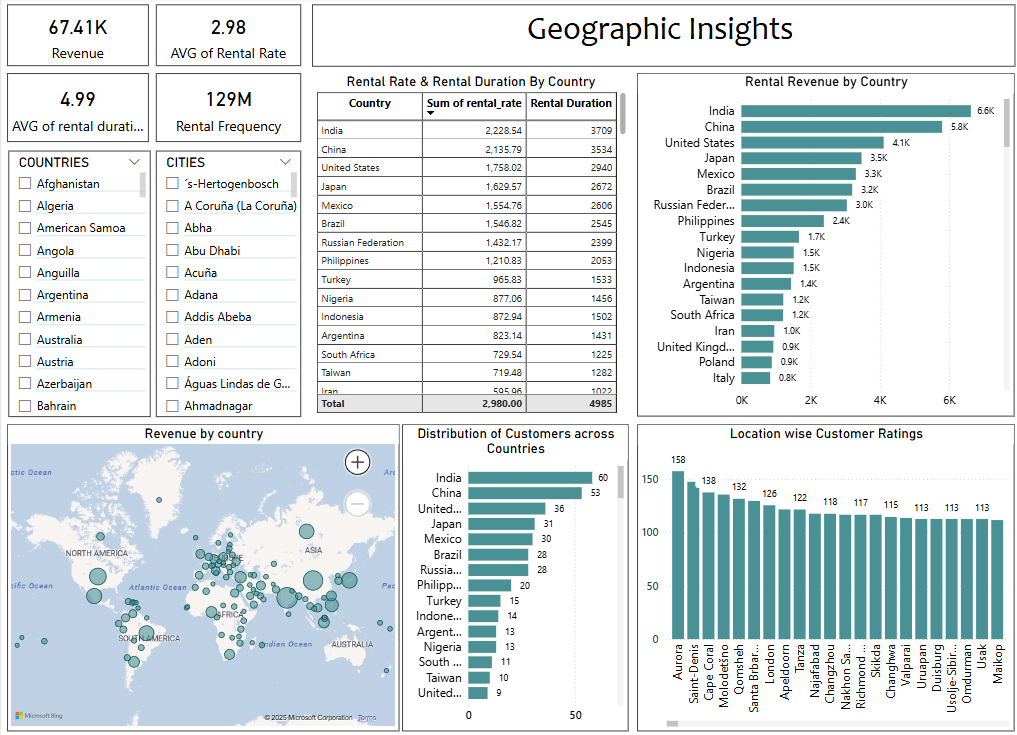

This screenshot's page, from the dashboard's own definition file:
{"tool":"powerbi","page":{"name":"Geographic / Location Analysis","canvas":[1370,1000],"ordinal":0},"visuals":[{"type":"map","fields":{"Category":["country.country"],"Size":["payment.Revenue"]},"box":[7.7,573.4,525.5,411.1],"z":0},{"type":"textbox","box":[416.4,9.4,942.4,83],"z":1000},{"type":"columnChart","title":"Location wise Customer Ratings","fields":{"Category":["city.city"],"Y":["Sum(film.rental_rate)"]},"box":[853.2,573.4,505.4,411.1],"z":2000},{"type":"clusteredBarChart","title":" Distribution of Customers across Countries","fields":{"Category":["country.country"],"Y":["CountNonNull(customer.customer_id)"]},"box":[537.9,573.4,302.9,411.1],"z":3000},{"type":"card","fields":{"Values":["payment.Revenue"]},"box":[8.7,10,189.7,82.4],"z":4000},{"type":"card","fields":{"Values":["Avg(film.rental_rate)"]},"box":[207.2,10,194.7,82.4],"z":5000},{"type":"card","fields":{"Values":["Avg(film.rental_duration)"]},"box":[8.7,102.3,189.7,92.3],"z":7000},{"type":"slicer","fields":{"Values":["city.city"]},"box":[207.1,205.6,194.7,357],"z":8000},{"type":"slicer","fields":{"Values":["country.country"]},"box":[9.3,205.6,190.1,357],"z":9000},{"type":"card","title":"Rental Frequency","fields":{"Values":["Sum(payment.payment_id)"]},"box":[207.2,102.3,194.7,92.3],"z":10000},{"type":"tableEx","title":"Rental Rate & Rental Duration By Country","fields":{"Values":["country.country","Sum(film.rental_rate)","Sum(film.rental_duration)"]},"box":[416.4,101.8,425.8,460.2],"z":11000},{"type":"clusteredBarChart","title":"Rental Revenue by Country","fields":{"Category":["country.country"],"Y":["Sum(payment.amount)"]},"box":[853.2,101.8,505.6,460.2],"z":12000}]}

Visuals, with their boxes in screenshot pixels (x1, y1, x2, y2), scaled from the page's 1370x1000 canvas onto the 1017x735 screenshot:
map - country.country x payment.Revenue: left=6, top=421, right=396, bottom=724
textbox: left=309, top=7, right=1009, bottom=68
"Location wise Customer Ratings" columnChart: left=633, top=421, right=1009, bottom=724
" Distribution of Customers across Countries" clusteredBarChart: left=399, top=421, right=624, bottom=724
card - payment.Revenue: left=6, top=7, right=147, bottom=68
card - Avg(film.rental_rate): left=154, top=7, right=298, bottom=68
card - Avg(film.rental_duration): left=6, top=75, right=147, bottom=143
slicer - city.city: left=154, top=151, right=298, bottom=414
slicer - country.country: left=7, top=151, right=148, bottom=414
"Rental Frequency" card: left=154, top=75, right=298, bottom=143
"Rental Rate & Rental Duration By Country" tableEx: left=309, top=75, right=625, bottom=413
"Rental Revenue by Country" clusteredBarChart: left=633, top=75, right=1009, bottom=413
